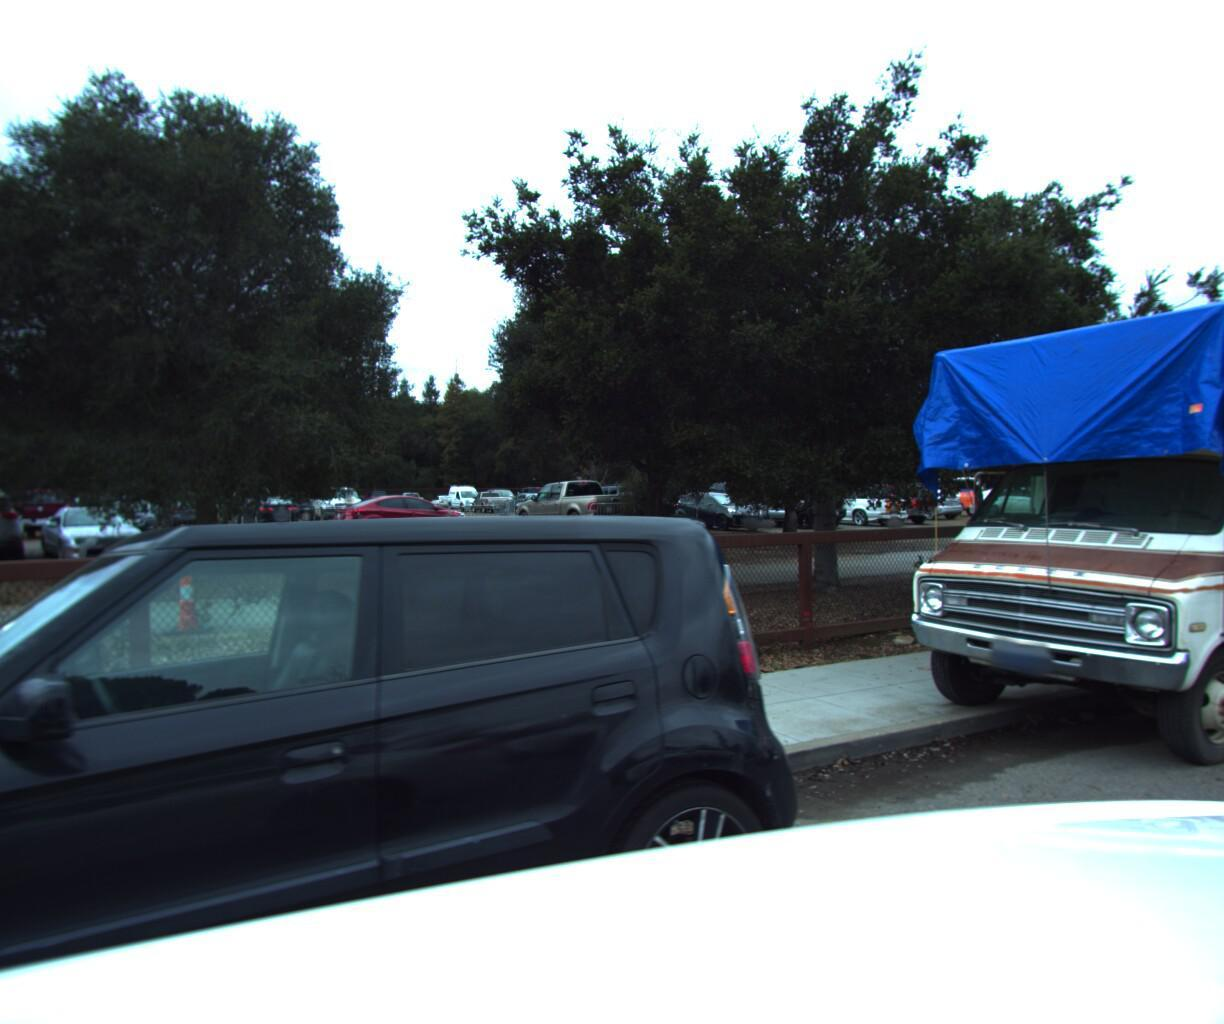car: (0, 500, 855, 1024)
other_vehicle: (850, 247, 1224, 818)
